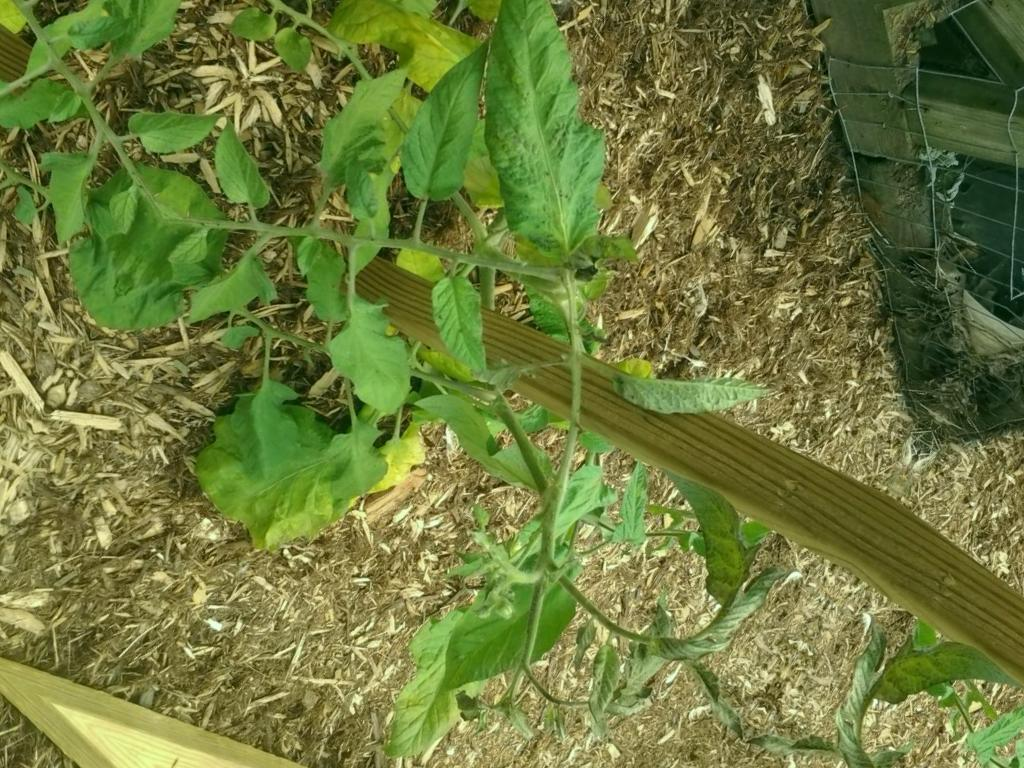Tomato leaf: (398, 0, 701, 274), (351, 602, 506, 768), (297, 274, 464, 428)
